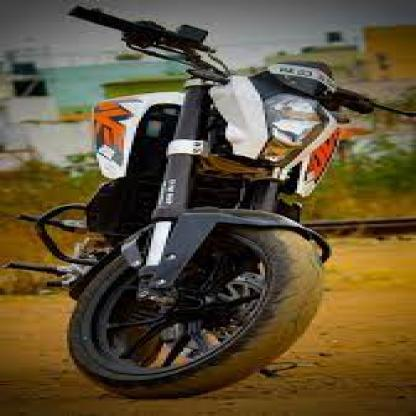bike: (44, 18, 400, 399)
